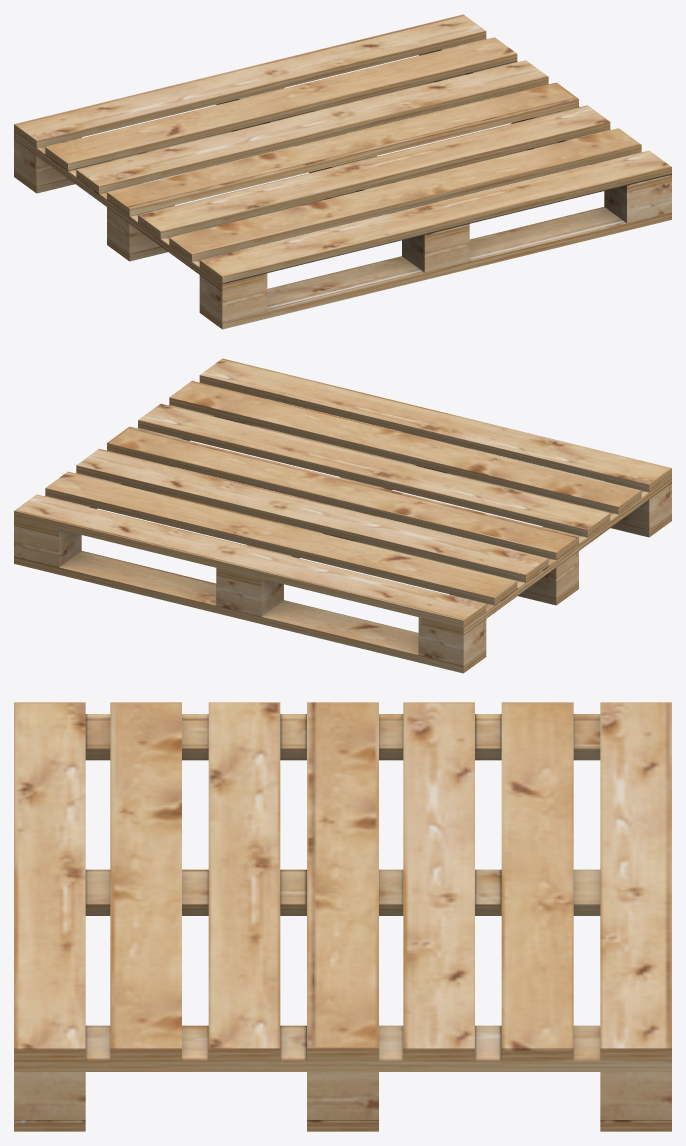
File: pallet.fbx
3 views of the same model, one above another, from view 1: azimuth 30°, elevation 25°; view 2: azimuth 150°, elevation 25°; view 3: azimuth 270°, elevation 25° (orthographic). The views are drawn at different scales.
Visible parts, largest first — view 1: pallet; view 2: pallet; view 3: pallet.
Boxes of the visible parts, box(x1,y1,x2,y2) form: pallet: box(14, 14, 671, 329); pallet: box(14, 358, 671, 673); pallet: box(14, 702, 671, 1131).
Bounding box in the file's own units: 0.8149 × 0.0914 × 0.6544.
1 material, 1 textured.
